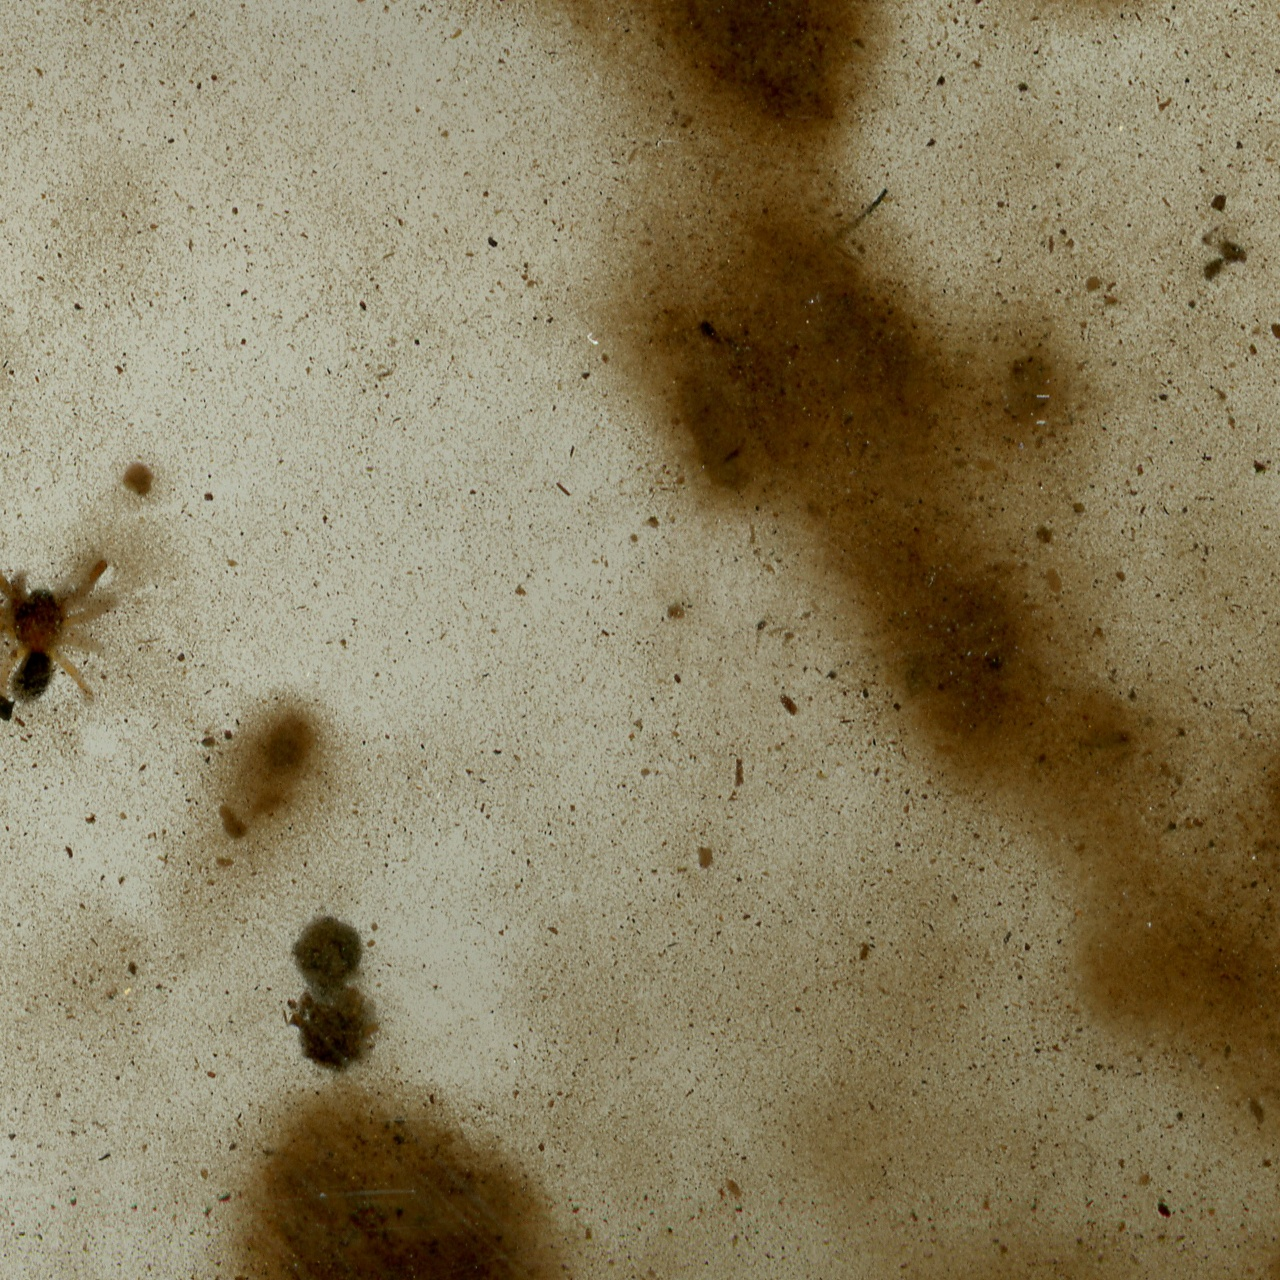arthropod: (0, 539, 130, 721)
